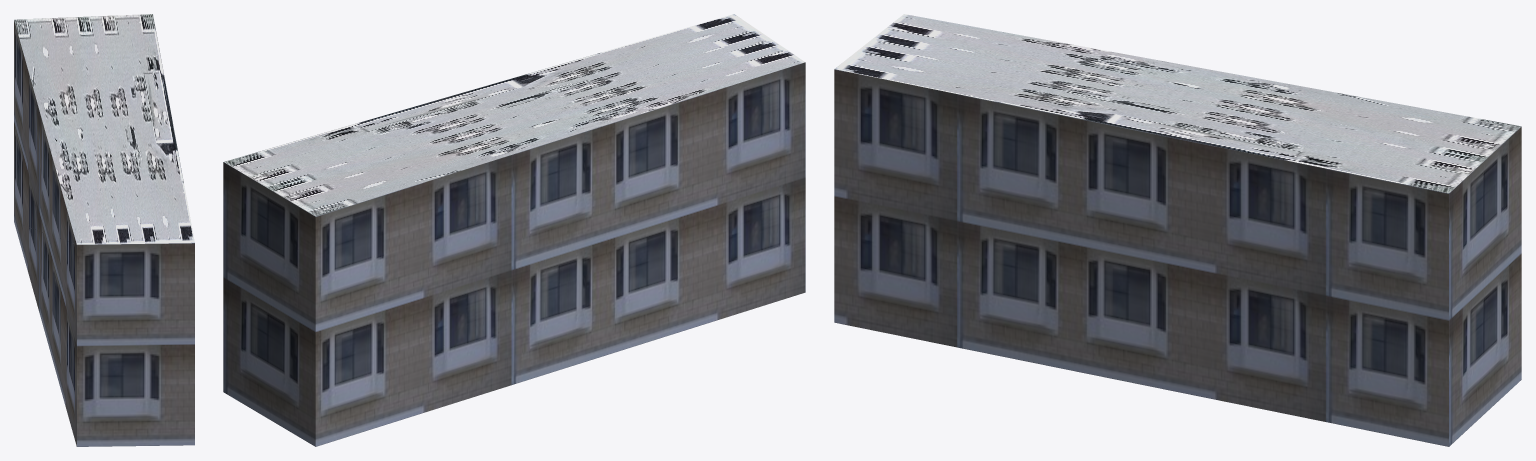
File: ResTex__1218.fbx
3 renders of one model, left to right at view 1: azimuth 30°, elevation 25°; view 2: azimuth 150°, elevation 25°; view 3: azimuth 270°, elevation 25°, orthographic. The views are drawn at different scales.
Parts seen in each view (by area): view 1: CityEngineMaterial_3_m, CityEngineMaterial_m; view 2: CityEngineMaterial_3_m, CityEngineMaterial_m; view 3: CityEngineMaterial_3_m, CityEngineMaterial_m.
Part boxes in pixels (x1,y1,x2,y2): CityEngineMaterial_3_m: (14,20,194,446); CityEngineMaterial_m: (14,14,194,244); CityEngineMaterial_3_m: (223,62,805,446); CityEngineMaterial_m: (224,14,804,216); CityEngineMaterial_3_m: (834,69,1521,446); CityEngineMaterial_m: (834,14,1520,193).
Size of the model in its own units: 9.12 by 6 by 14.75.
Materials: 2 (2 with a texture image).
